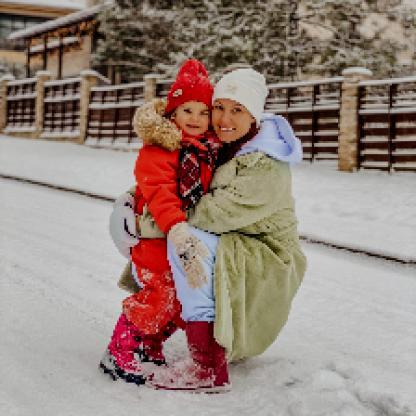child: (100, 60, 223, 387)
